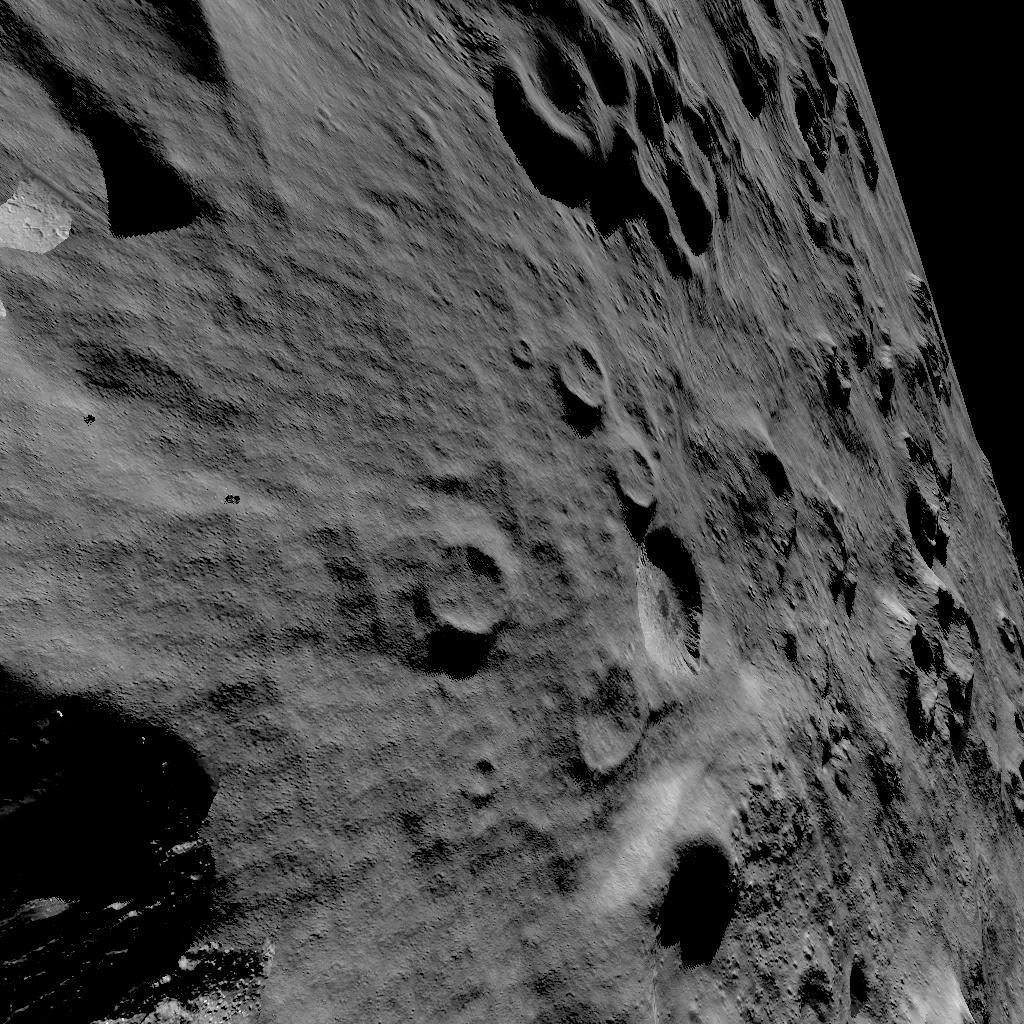Crater: (0, 640, 301, 1024), (477, 0, 754, 276), (3, 0, 277, 260), (568, 522, 718, 784), (824, 272, 968, 460), (893, 579, 1024, 772), (780, 0, 892, 208), (642, 827, 760, 999), (414, 526, 516, 642), (739, 444, 807, 570), (896, 485, 968, 564), (552, 338, 614, 423), (610, 449, 670, 513)
Plan surface: (0, 268, 394, 626), (319, 668, 549, 1024), (287, 0, 464, 259)
